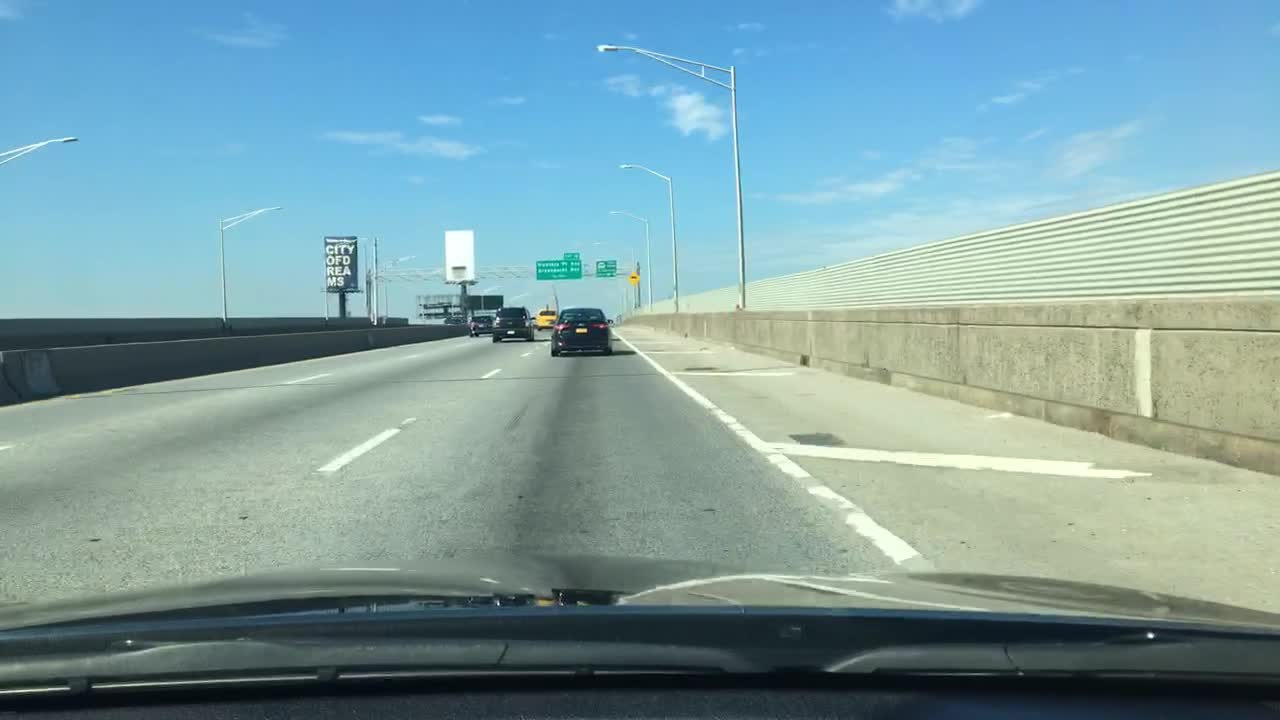car: (548, 306, 615, 359), (490, 304, 538, 343), (467, 313, 495, 337), (537, 309, 559, 330)
traffic sign: (443, 228, 472, 279), (537, 259, 583, 282), (596, 258, 617, 278), (482, 293, 503, 309), (561, 250, 582, 260), (467, 295, 480, 310), (627, 271, 639, 285)
